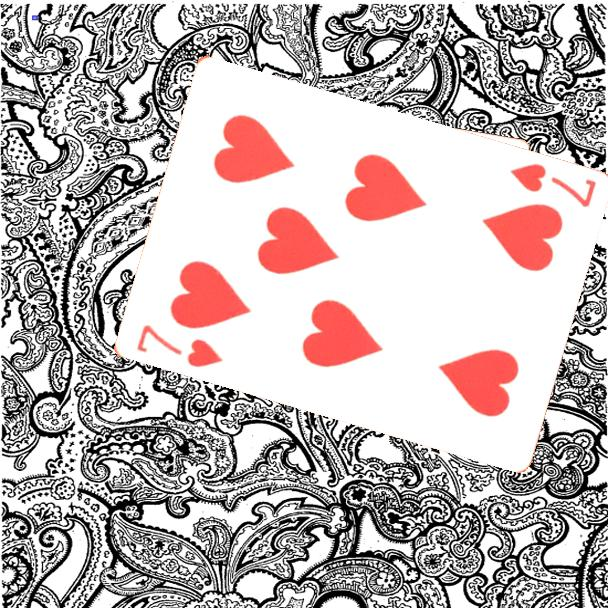h07: (505, 160, 599, 211), (132, 321, 225, 371)
